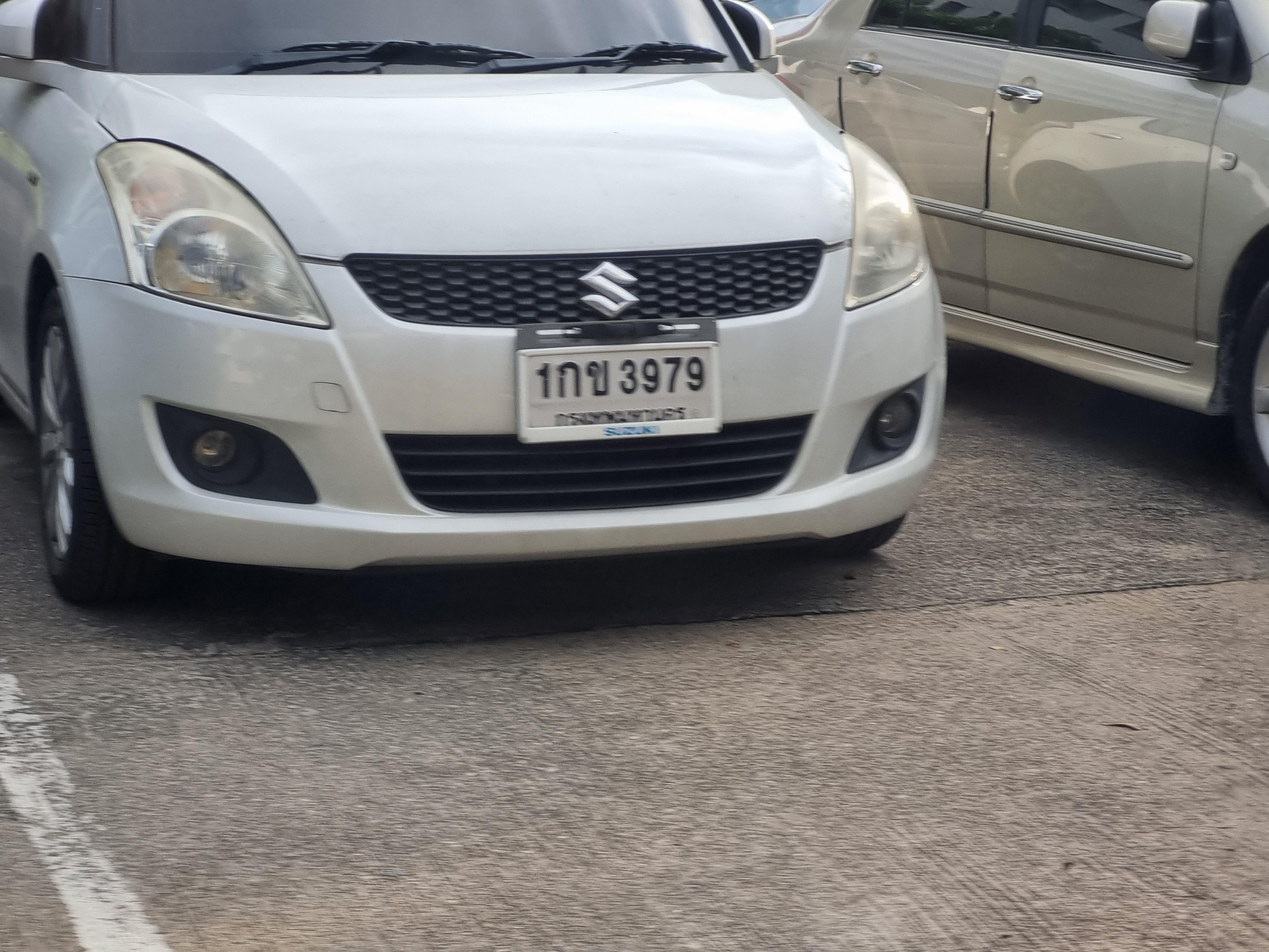license-plate: (516, 325, 725, 450)
